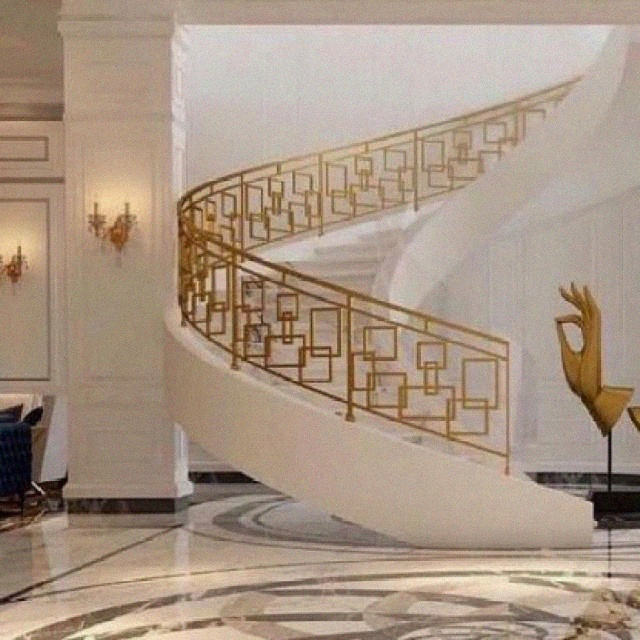stair: (168, 148, 580, 551)
